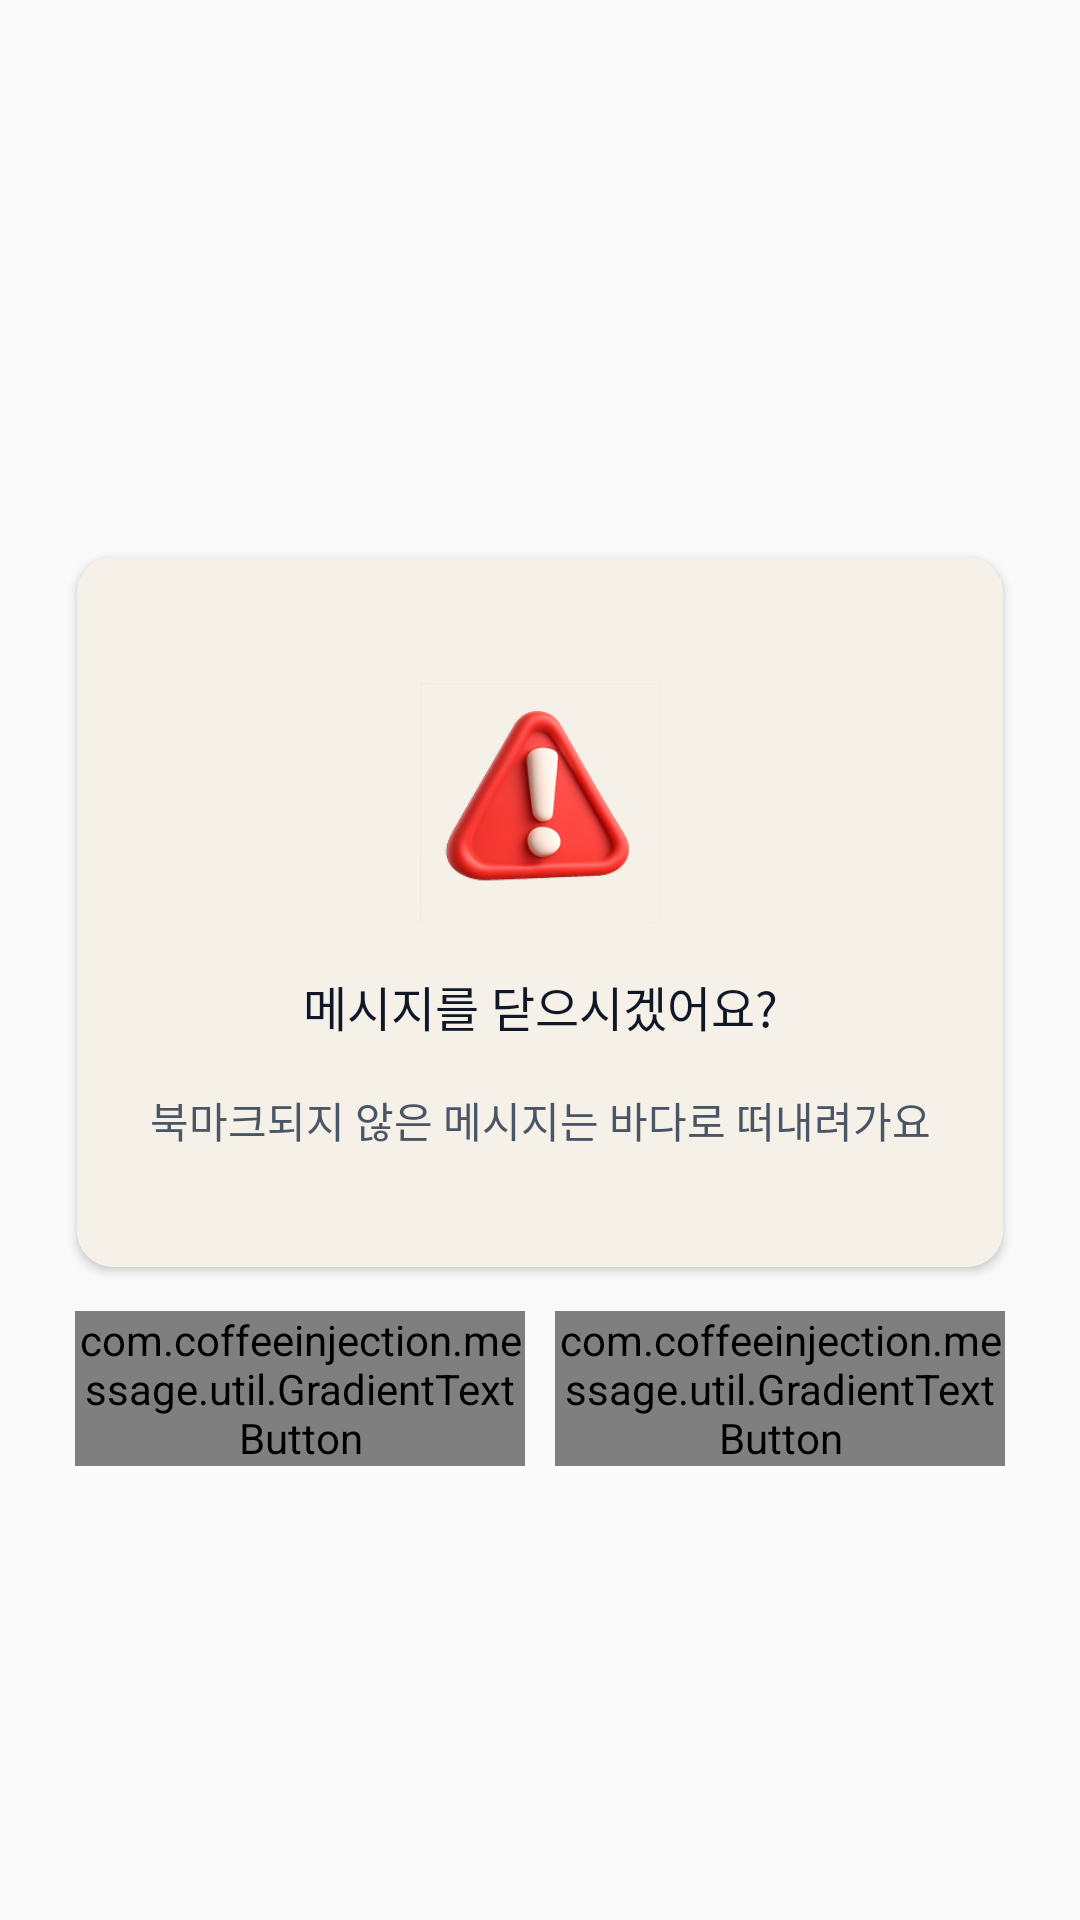

Where to tap for icons on this 1080*1920 app screen, as [x,y]:
warning: [538,796]
